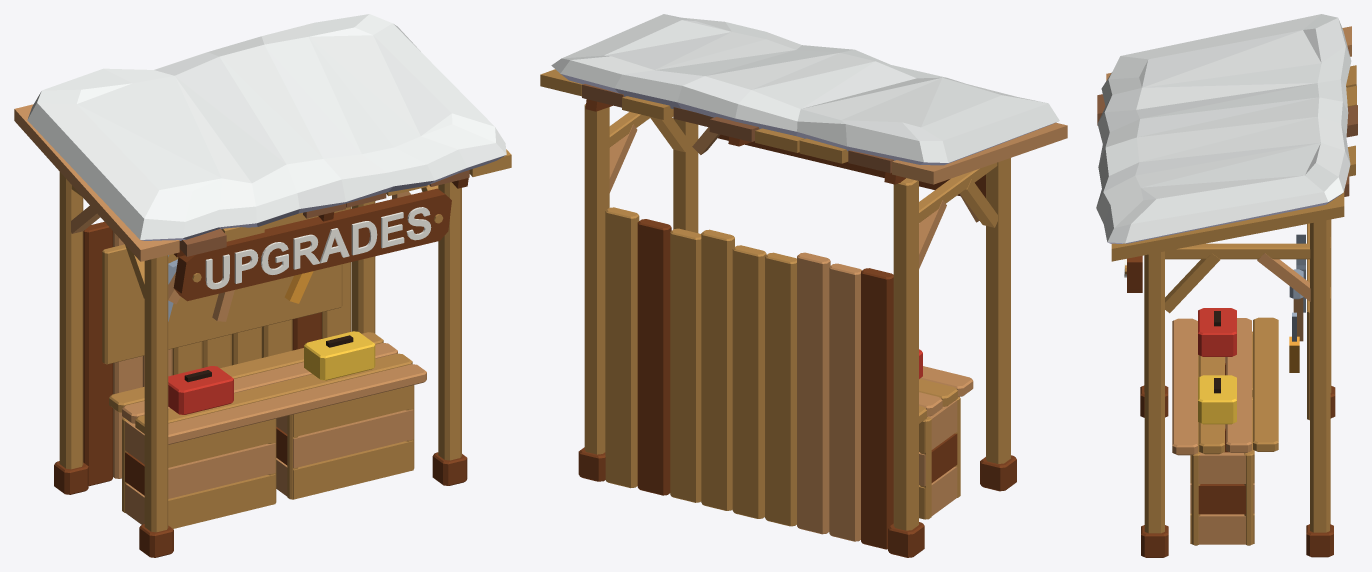
Rendered from Upgrades.glb.
3 renders of one model, left to right at view 1: azimuth 30°, elevation 25°; view 2: azimuth 150°, elevation 25°; view 3: azimuth 270°, elevation 25°, orthographic. The views are drawn at different scales.
Visible parts, largest first — view 1: Upgrades; view 2: Upgrades; view 3: Upgrades.
Boxes of the visible parts, <box> form: Upgrades: <box>14,14,511,557</box>; Upgrades: <box>540,14,1067,557</box>; Upgrades: <box>1096,14,1357,557</box>.
Size of the model in its own units: 2.63 by 2.69 by 1.64.
1 material, 1 textured.
